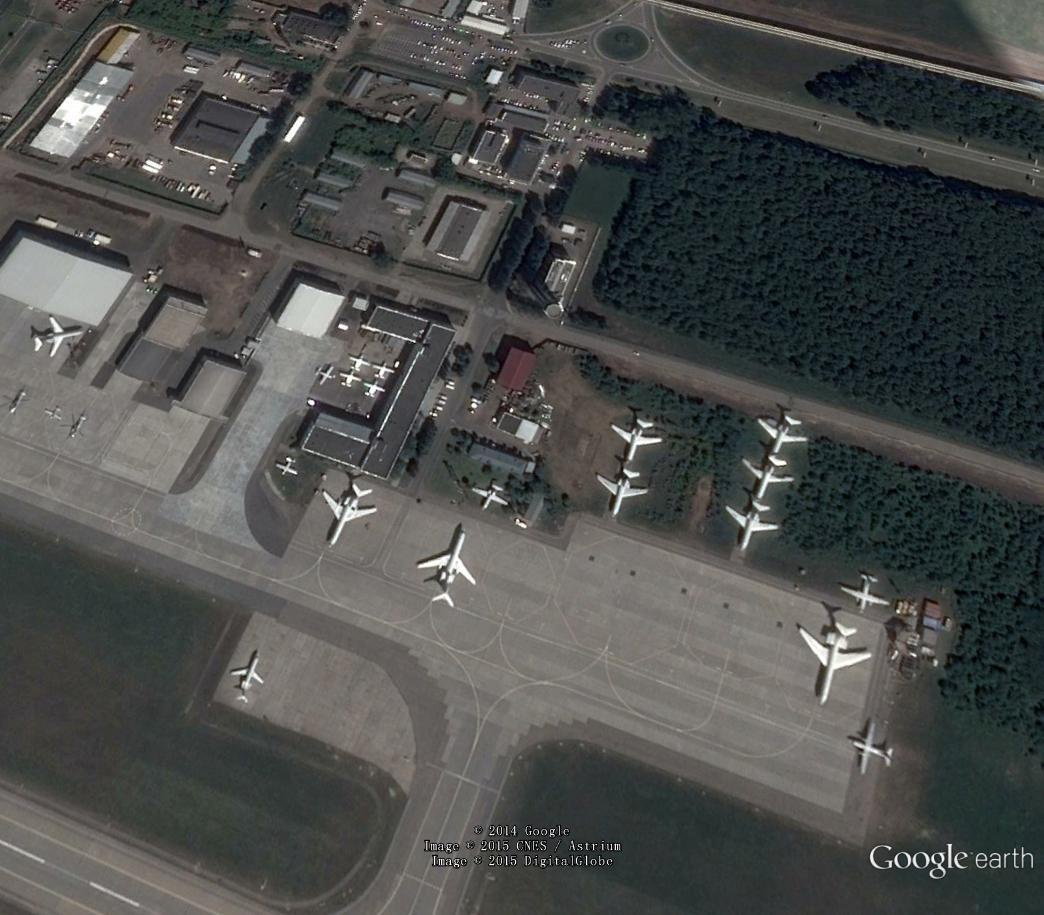aircraft: (797, 618, 876, 709), (413, 526, 481, 611), (322, 480, 379, 553), (722, 491, 783, 557), (593, 465, 654, 523), (738, 451, 799, 502), (607, 417, 669, 466), (847, 717, 898, 776), (29, 313, 85, 361), (754, 412, 814, 456), (839, 567, 894, 615), (226, 650, 266, 707), (468, 480, 510, 515), (270, 451, 301, 483), (361, 374, 388, 402), (345, 348, 372, 375), (370, 359, 398, 383), (336, 365, 363, 389), (42, 404, 67, 425), (316, 365, 337, 388)
